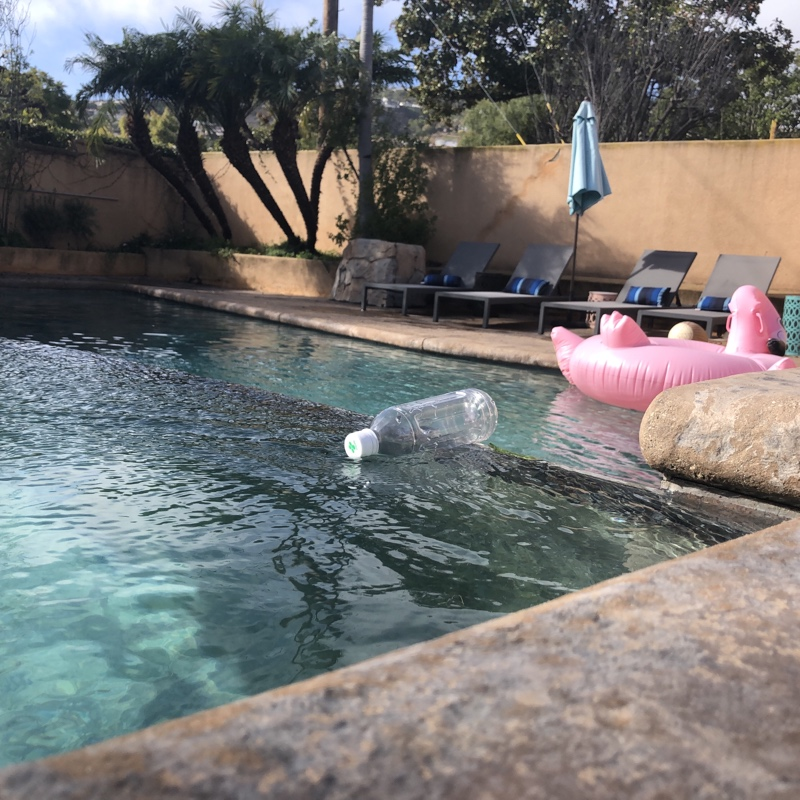Plastic Bottle: (340, 383, 500, 460)
